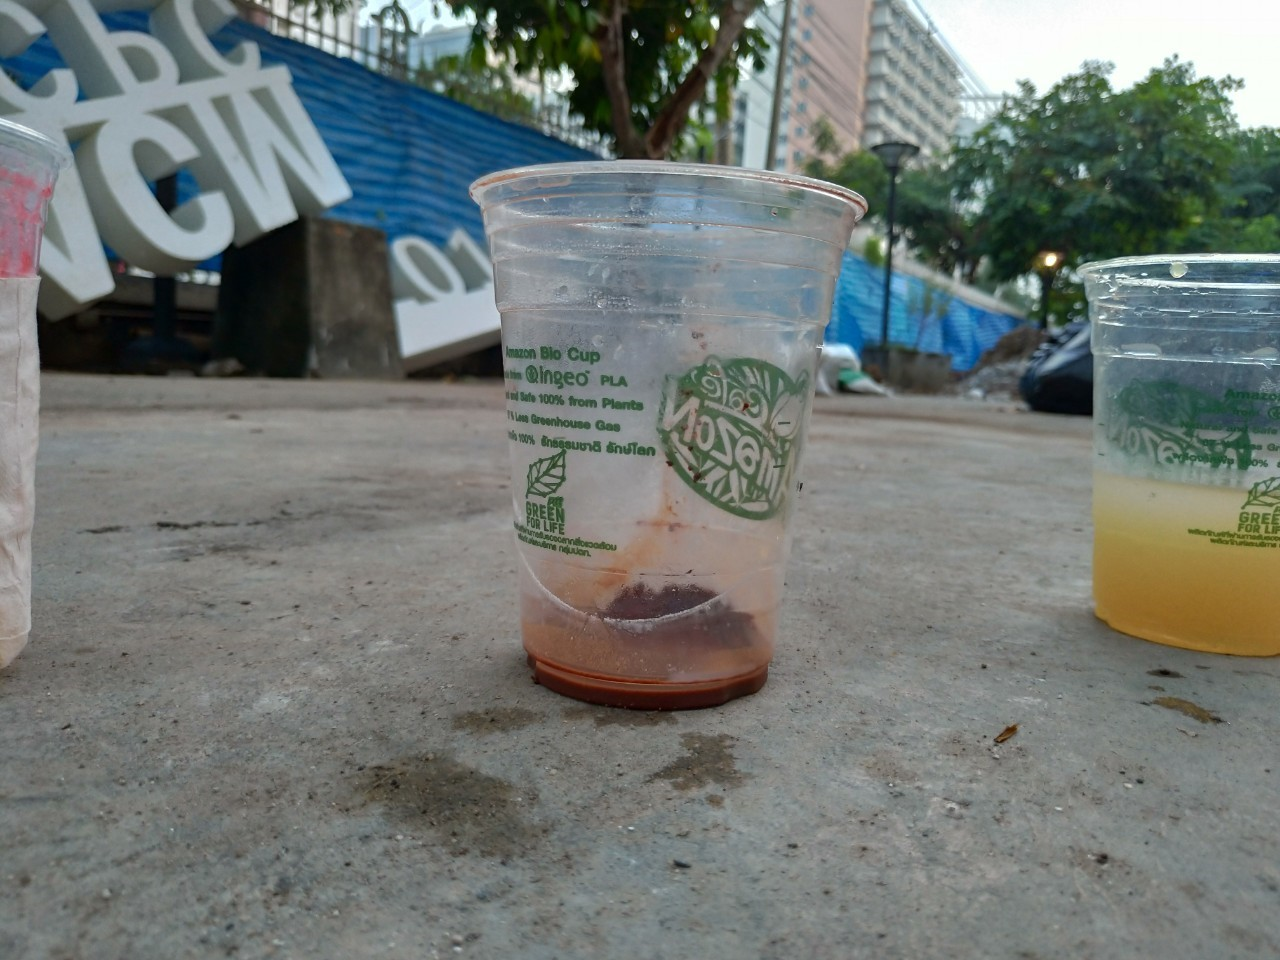PlasticCup: (465, 156, 876, 709), (1068, 234, 1280, 650)
